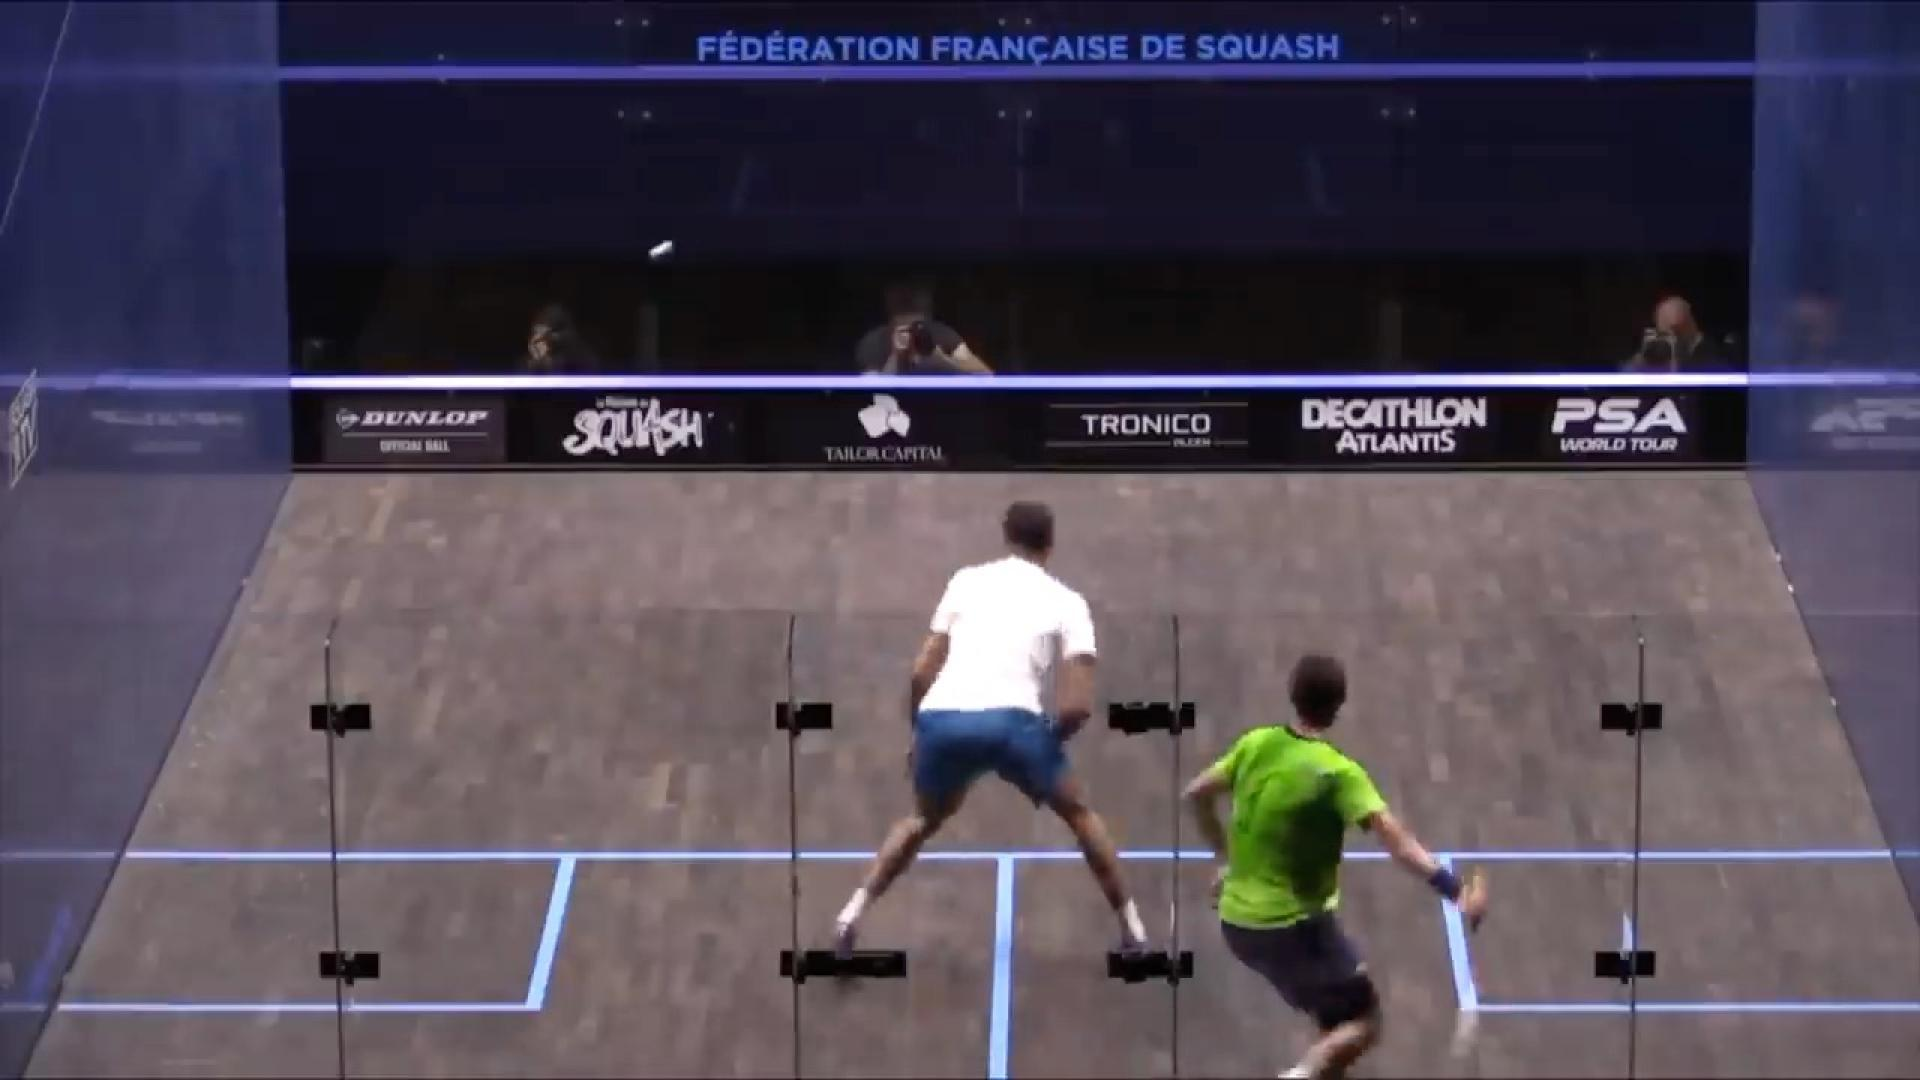Squash-Ball: (640, 231, 690, 277)
